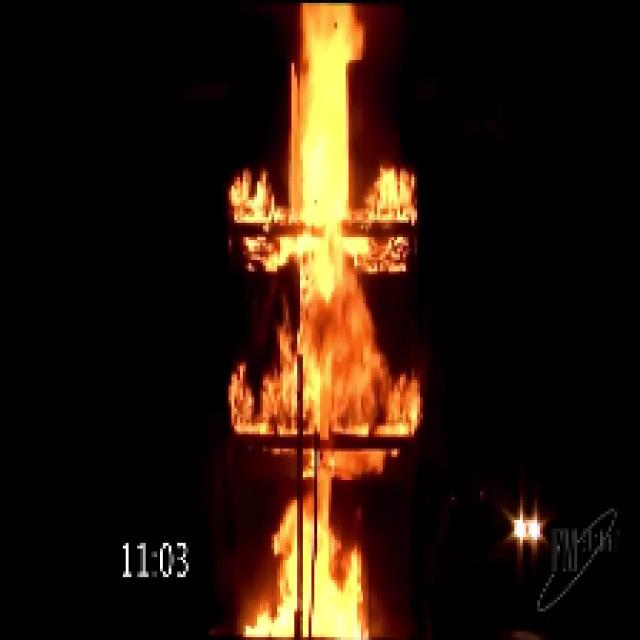fire: (262, 12, 386, 626)
